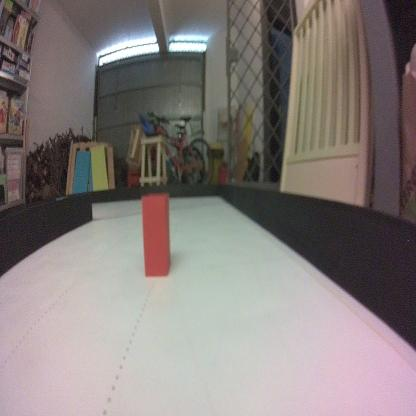red: (140, 190, 171, 277)
